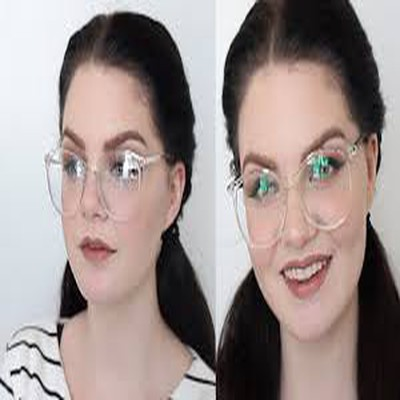eywear: (216, 144, 379, 235), (45, 123, 180, 229)
